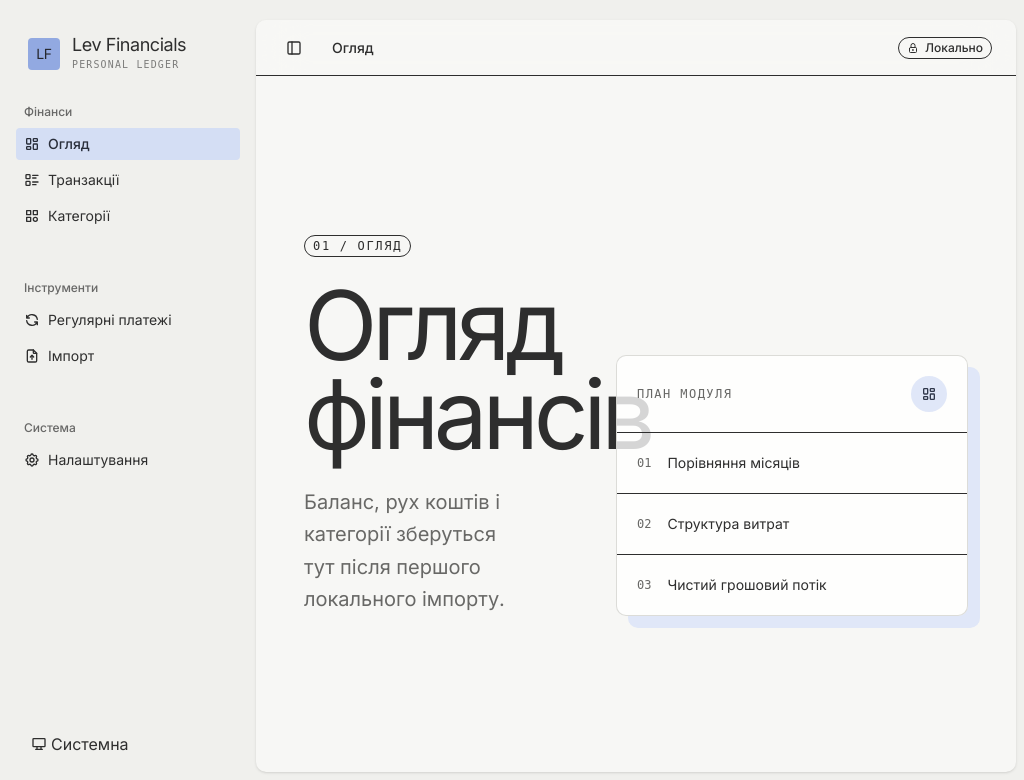
Test: App › navigates through the application shell
Click the link "Транзакції". click: (72, 180)
box: [24,171,120,188]
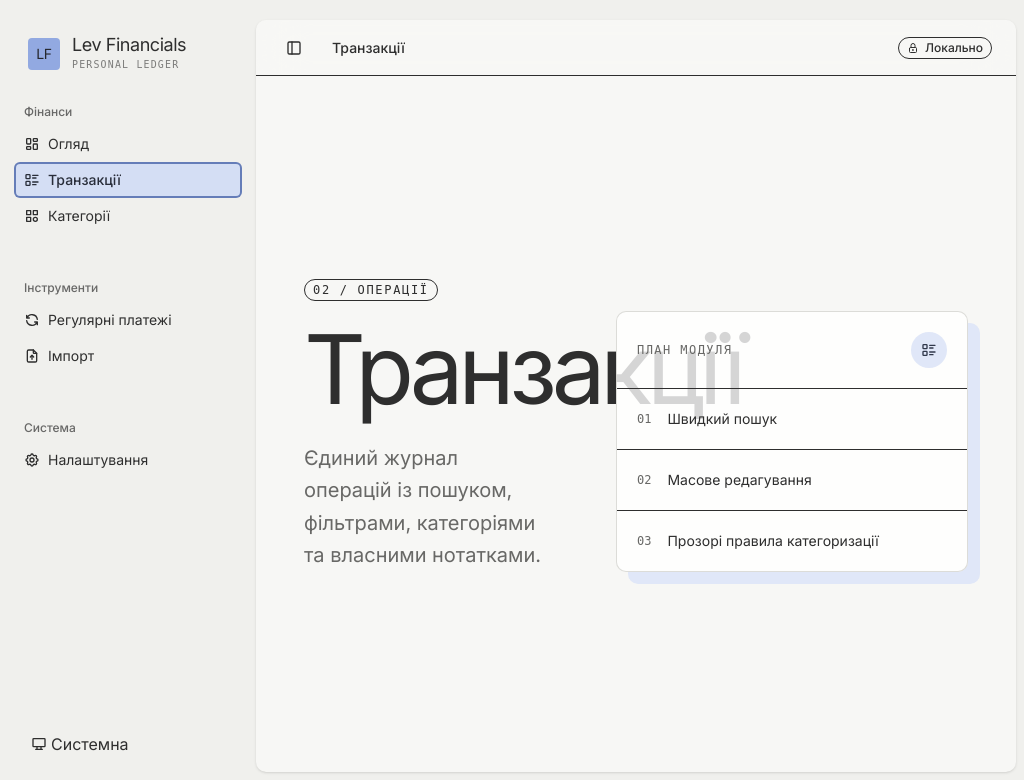
Check: the heading "Транзакції" is shown, box [304,325,552,414]
